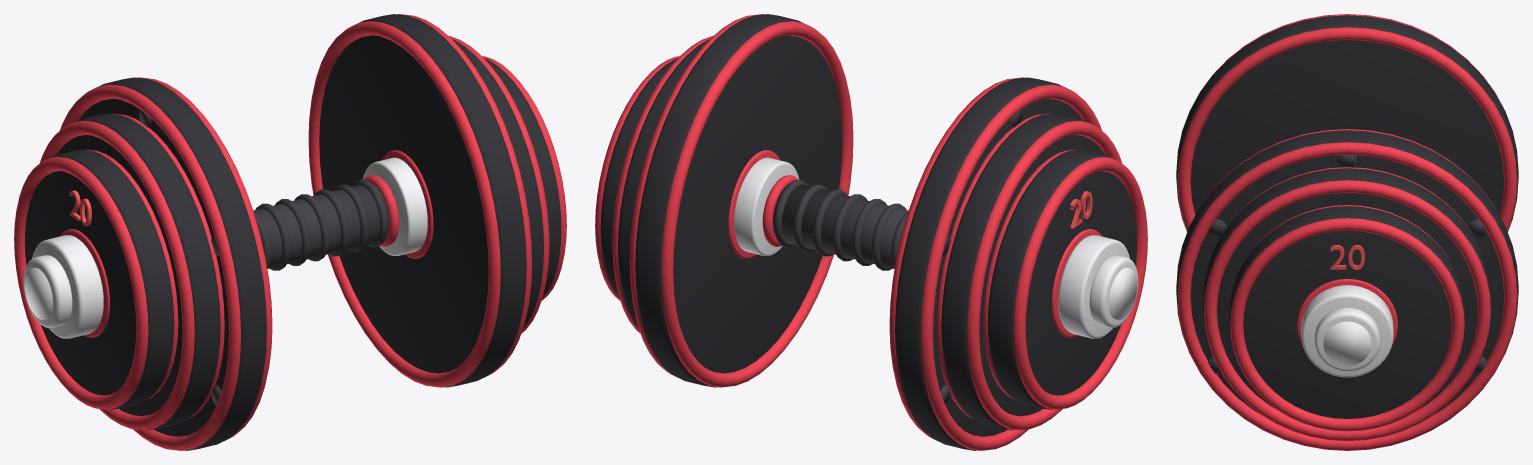
The model's file is dm_heavy20kg.glb.
3 views of the same model, side by side, from view 1: azimuth 30°, elevation 25°; view 2: azimuth 150°, elevation 25°; view 3: azimuth 270°, elevation 25° (orthographic). The views are drawn at different scales.
Parts seen in each view (by area): view 1: Heavy20kg_Plate0.001, Heavy20kg_Plate2, Heavy20kg_Plate0, Heavy20kg_Plate1, Heavy20kg_PlateRimIn0.001, Heavy20kg_PlateRim2, Heavy20kg_PlateRim0, Heavy20kg_PlateRim1, Heavy20kg_Grip, Heavy20kg_Collar, Heavy20kg_Plate1.001, Heavy20kg_InnerCollar.001 (+18 smaller); view 2: Heavy20kg_Plate0.001, Heavy20kg_Plate2, Heavy20kg_Plate0, Heavy20kg_Plate1, Heavy20kg_PlateRimIn0.001, Heavy20kg_PlateRim2, Heavy20kg_PlateRim0, Heavy20kg_PlateRim1, Heavy20kg_Grip, Heavy20kg_Collar, Heavy20kg_Plate1.001, Heavy20kg_InnerCollar.001 (+18 smaller); view 3: Heavy20kg_Plate0, Heavy20kg_Plate2.001, Heavy20kg_PlateRim0.001, Heavy20kg_Plate0.001, Heavy20kg_PlateRim1.001, Heavy20kg_Plate1.001, Heavy20kg_PlateRim2.001, Heavy20kg_PlateRimIn0, Heavy20kg_Collar.001, Heavy20kg_EndCap.001, Heavy20kg_Bar, Heavy20kg_Hub2.001 (+5 smaller).
Boxes of the visible parts, box(x1,y1,x2,y2) form: Heavy20kg_Plate0.001: box(319, 14, 526, 387); Heavy20kg_Plate2: box(24, 149, 174, 409); Heavy20kg_Plate0: box(79, 77, 266, 450); Heavy20kg_Plate1: box(57, 113, 220, 430); Heavy20kg_PlateRimIn0.001: box(308, 21, 500, 387); Heavy20kg_PlateRim2: box(14, 157, 148, 409); Heavy20kg_PlateRim0: box(60, 84, 240, 450); Heavy20kg_PlateRim1: box(40, 120, 194, 430); Heavy20kg_Grip: box(253, 184, 389, 268); Heavy20kg_Collar: box(32, 235, 103, 338); Heavy20kg_Plate1.001: box(452, 39, 543, 328); Heavy20kg_InnerCollar.001: box(362, 157, 427, 255); Heavy20kg_Plate0.001: box(635, 14, 842, 387); Heavy20kg_Plate2: box(987, 149, 1137, 409); Heavy20kg_Plate0: box(895, 77, 1082, 450); Heavy20kg_Plate1: box(941, 113, 1104, 430); Heavy20kg_PlateRimIn0.001: box(661, 21, 853, 387); Heavy20kg_PlateRim2: box(1013, 157, 1147, 409); Heavy20kg_PlateRim0: box(921, 84, 1101, 450); Heavy20kg_PlateRim1: box(967, 120, 1121, 430); Heavy20kg_Grip: box(772, 184, 908, 268); Heavy20kg_Collar: box(1058, 235, 1129, 338); Heavy20kg_Plate1.001: box(618, 39, 709, 328); Heavy20kg_InnerCollar.001: box(734, 157, 799, 255); Heavy20kg_Plate0: box(1176, 15, 1518, 231); Heavy20kg_Plate2.001: box(1229, 206, 1465, 418); Heavy20kg_PlateRim0.001: box(1177, 142, 1517, 450); Heavy20kg_Plate0.001: box(1176, 130, 1518, 413); Heavy20kg_PlateRim1.001: box(1204, 180, 1490, 441); Heavy20kg_Plate1.001: box(1202, 168, 1492, 408); Heavy20kg_PlateRim2.001: box(1230, 218, 1464, 431); Heavy20kg_PlateRimIn0: box(1177, 27, 1517, 231); Heavy20kg_Collar.001: box(1301, 285, 1393, 377); Heavy20kg_EndCap.001: box(1314, 307, 1380, 371); Heavy20kg_Bar: box(1323, 321, 1371, 365); Heavy20kg_Hub2.001: box(1297, 279, 1397, 345).
Bounding box in the file's own units: 2.05 × 1.33 × 1.33.
